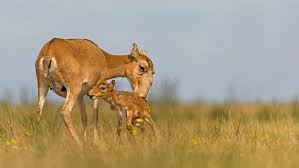saiga: (28, 36, 155, 144), (86, 79, 160, 143)
